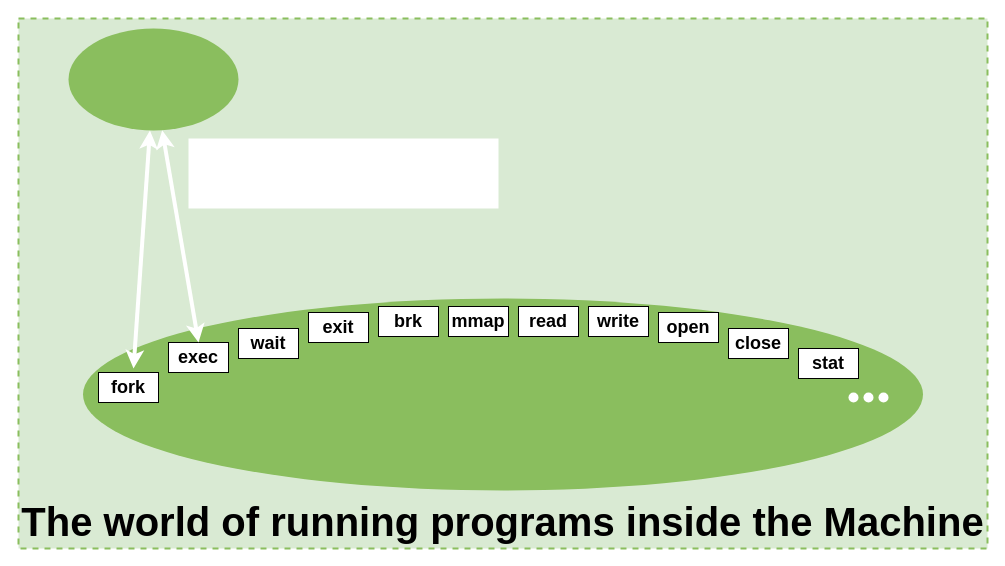
Image size: 1005x566. Some labels were removed from this diagram. Each missing label, with the box of its shape:
bash: (68, 28, 238, 130)
fork(...) exec("/usr/bin/ls", args, env): (188, 138, 498, 208)
UNIX Kernel: (82, 298, 922, 490)
